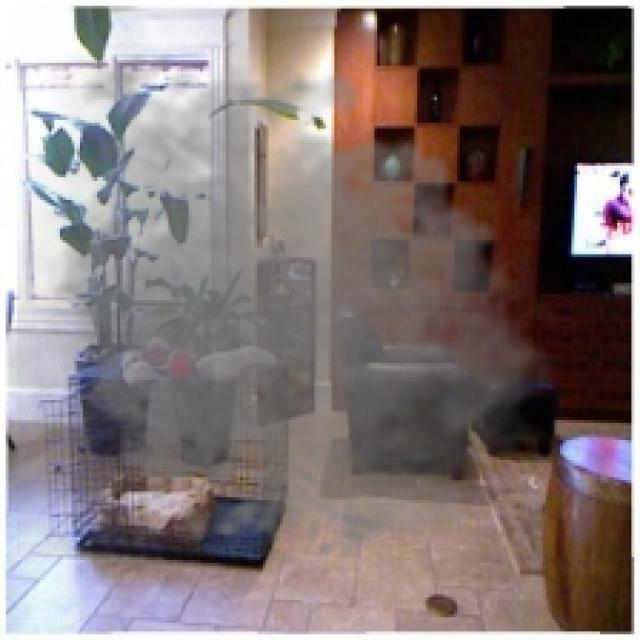Smoke: (17, 37, 574, 569)
